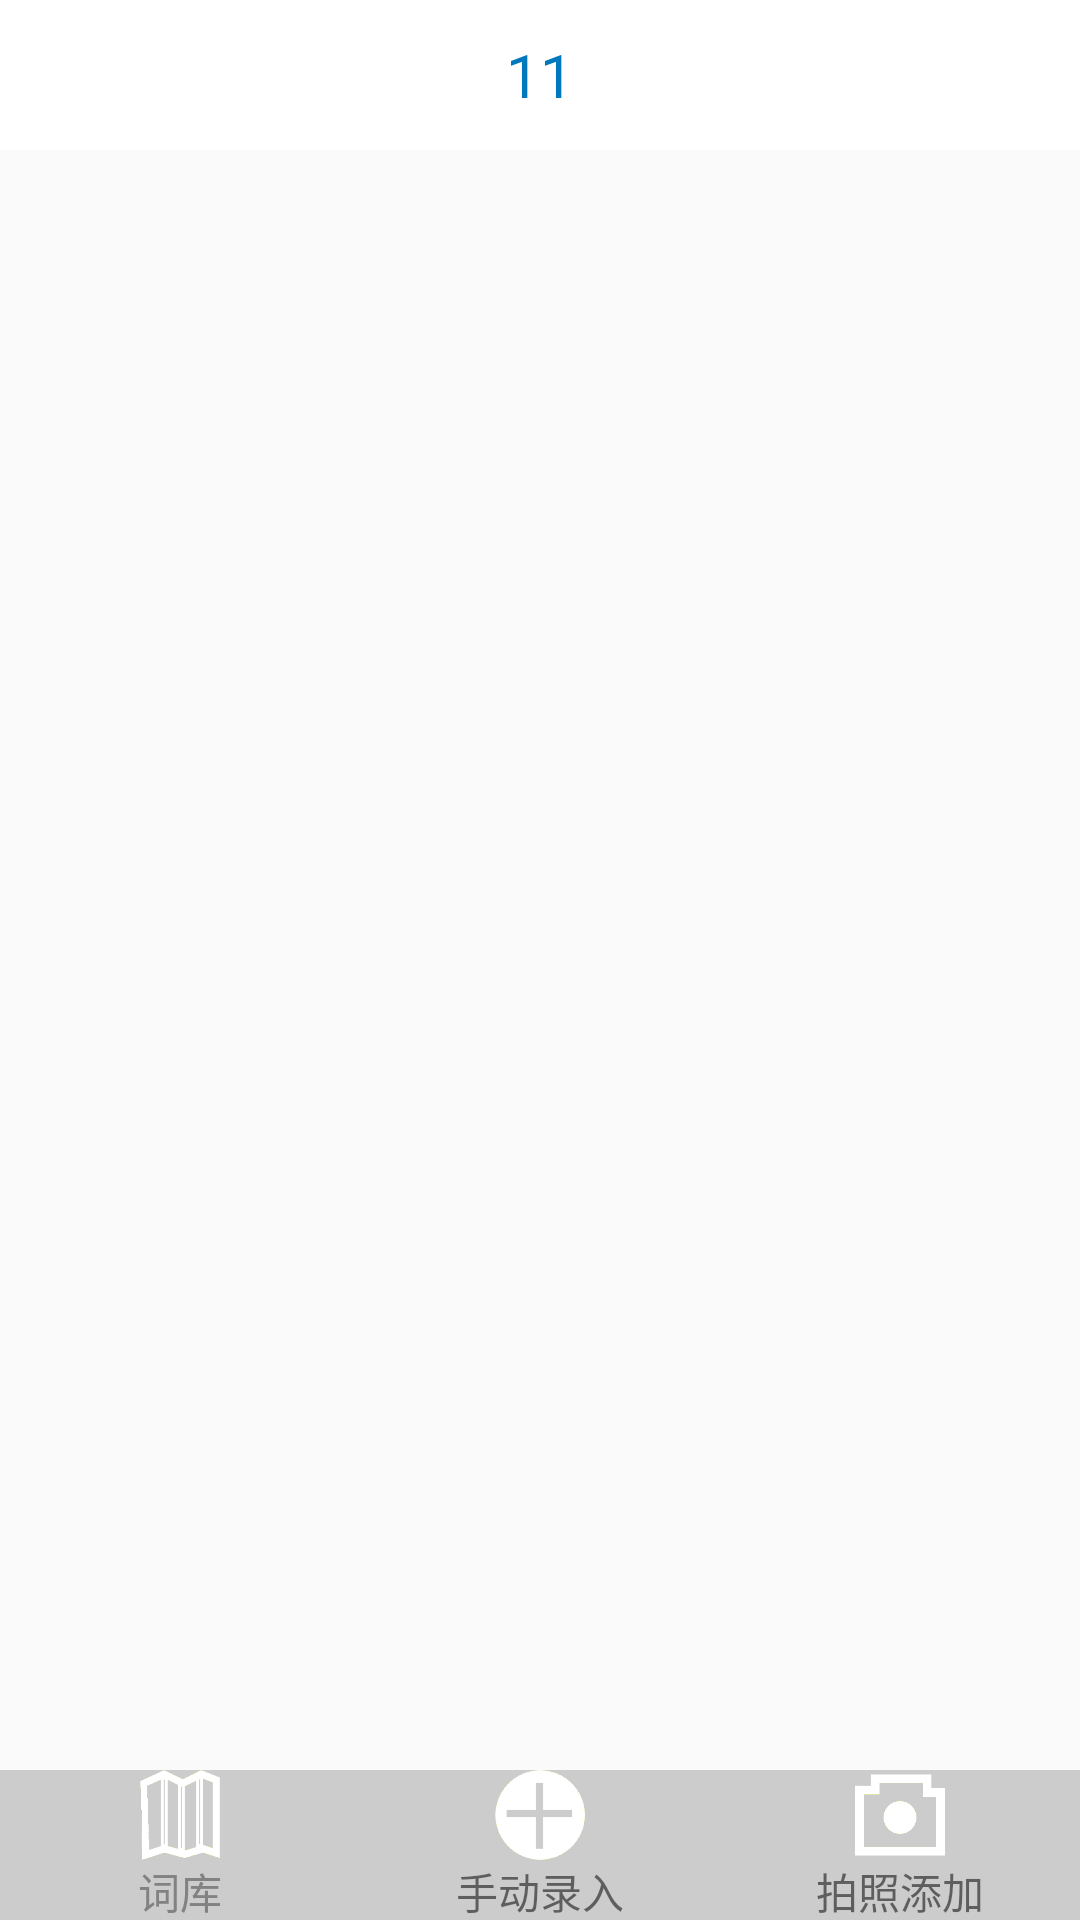

Icons on this 1080*1920 Android screen, each with the point to tap as [x,y]:
add: [540,1815]
book: [180,1815]
